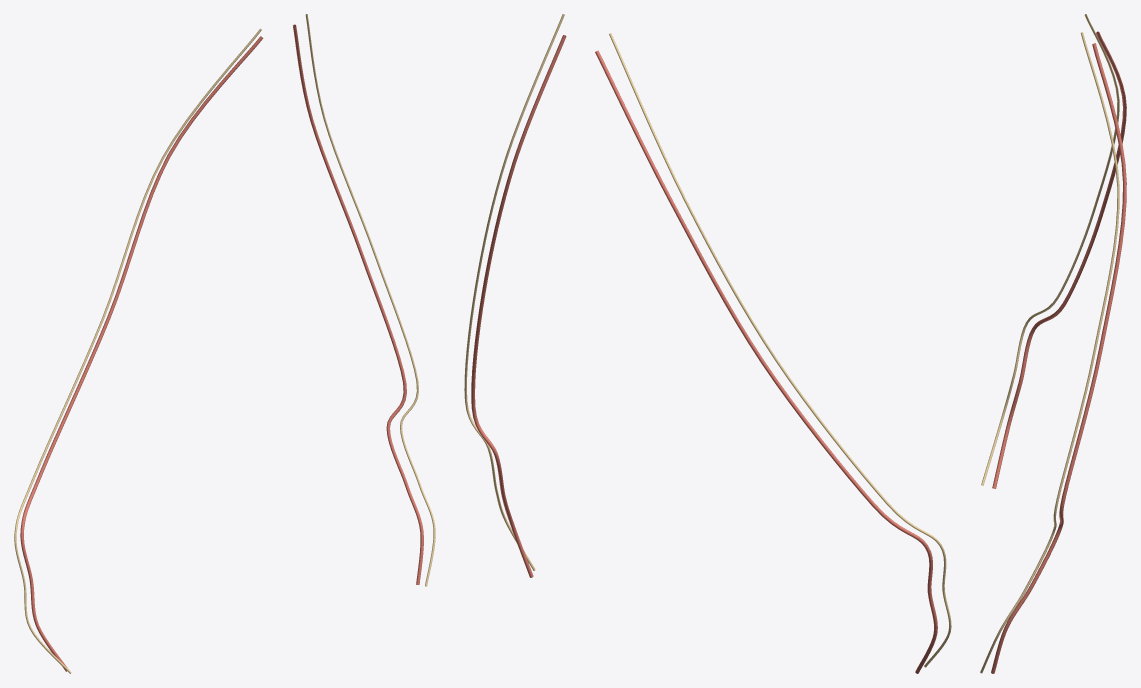
The model's file is female-ovarian-supply.glb.
The picture shows the model from 3 angles, left to right: view 1: azimuth 30°, elevation 25°; view 2: azimuth 150°, elevation 25°; view 3: azimuth 270°, elevation 25°; orthographic projection. The views are drawn at different scales.
Parts seen in each view (by area): view 1: VMRA_FOS_RIGHT_ARTERY, VMRA_FOS_LEFT_ARTERY, VMRA_FOS_RIGHT_PLEXUS, VMRA_FOS_LEFT_PLEXUS; view 2: VMRA_FOS_RIGHT_ARTERY, VMRA_FOS_LEFT_ARTERY, VMRA_FOS_RIGHT_PLEXUS, VMRA_FOS_LEFT_PLEXUS; view 3: VMRA_FOS_LEFT_ARTERY, VMRA_FOS_RIGHT_ARTERY, VMRA_FOS_LEFT_PLEXUS, VMRA_FOS_RIGHT_PLEXUS.
Boxes of the visible parts, x1=… form: VMRA_FOS_RIGHT_ARTERY: x1=20, y1=36, x2=263, y2=671; VMRA_FOS_LEFT_ARTERY: x1=293, y1=24, x2=423, y2=584; VMRA_FOS_RIGHT_PLEXUS: x1=14, y1=28, x2=261, y2=673; VMRA_FOS_LEFT_PLEXUS: x1=305, y1=14, x2=435, y2=586; VMRA_FOS_RIGHT_ARTERY: x1=595, y1=50, x2=937, y2=673; VMRA_FOS_LEFT_ARTERY: x1=471, y1=35, x2=566, y2=577; VMRA_FOS_RIGHT_PLEXUS: x1=609, y1=33, x2=951, y2=667; VMRA_FOS_LEFT_PLEXUS: x1=464, y1=14, x2=564, y2=570; VMRA_FOS_LEFT_ARTERY: x1=991, y1=43, x2=1126, y2=673; VMRA_FOS_RIGHT_ARTERY: x1=992, y1=31, x2=1126, y2=488; VMRA_FOS_LEFT_PLEXUS: x1=980, y1=32, x2=1119, y2=673; VMRA_FOS_RIGHT_PLEXUS: x1=981, y1=14, x2=1119, y2=485.
Bounding box in the file's own units: 0.1295 × 0.1649 × 0.0362.
